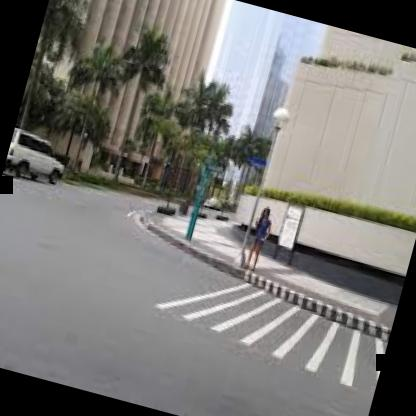car: (0, 121, 81, 205)
